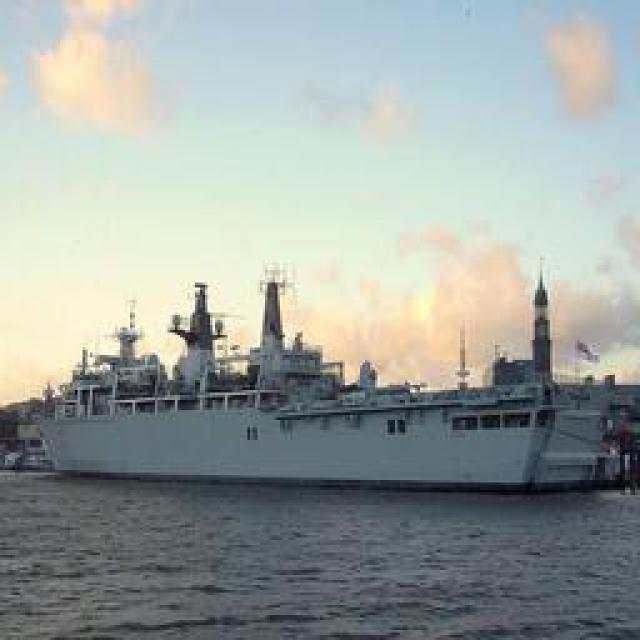Ship: (31, 250, 639, 490)
